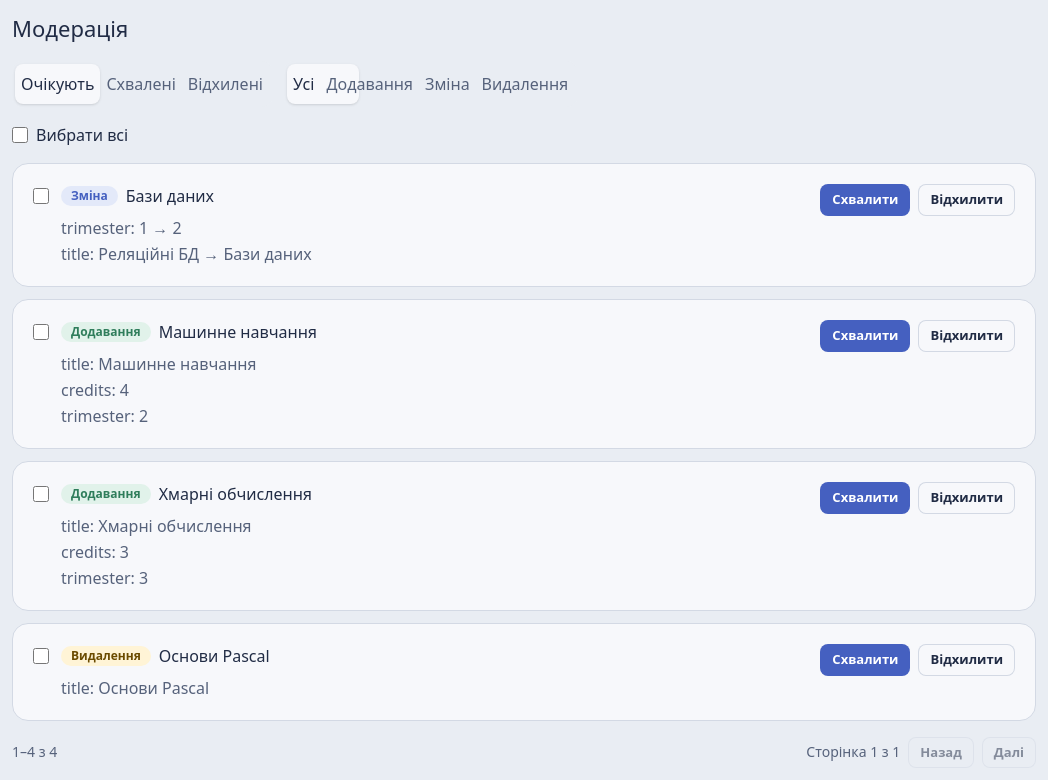
it: ModerationPage › вкладка «Схвалені» показує розглянуті записи без чекбоксів
Check: the element named "Запис 502" is shown, box [12,163,1036,287]
Click the button "Схвалені". click: (141, 84)
box: [100,64,182,104]
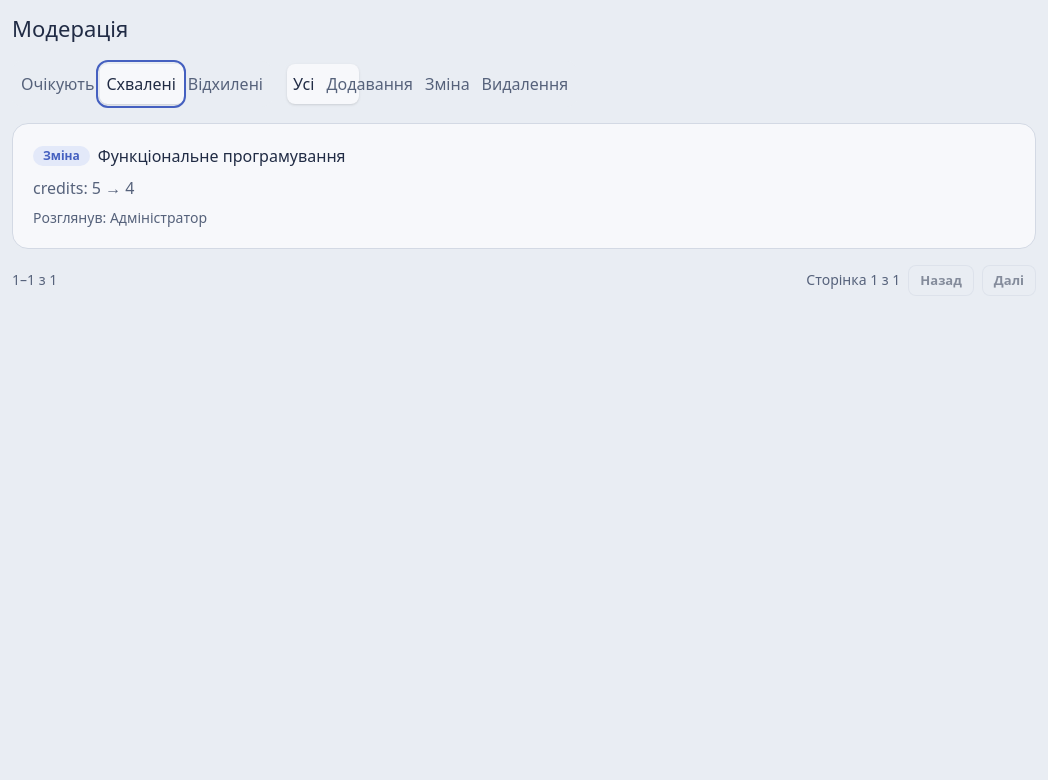
Check: the checkbox is gone
Check: the button "Схвалити" is gone
Check: the text "Розглянув: Адміністратор" is shown, box [33,208,207,227]
